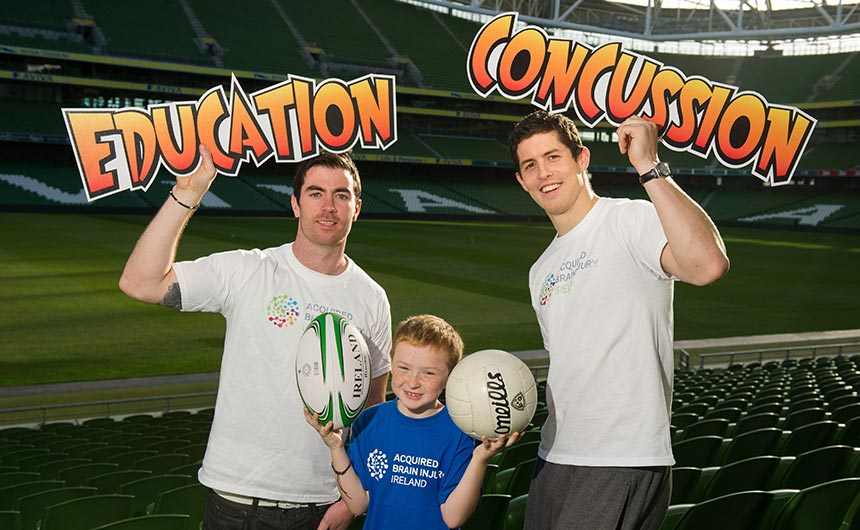ball: (450, 352, 529, 437)
player: (507, 93, 720, 485), (181, 132, 384, 502), (340, 297, 496, 507)
